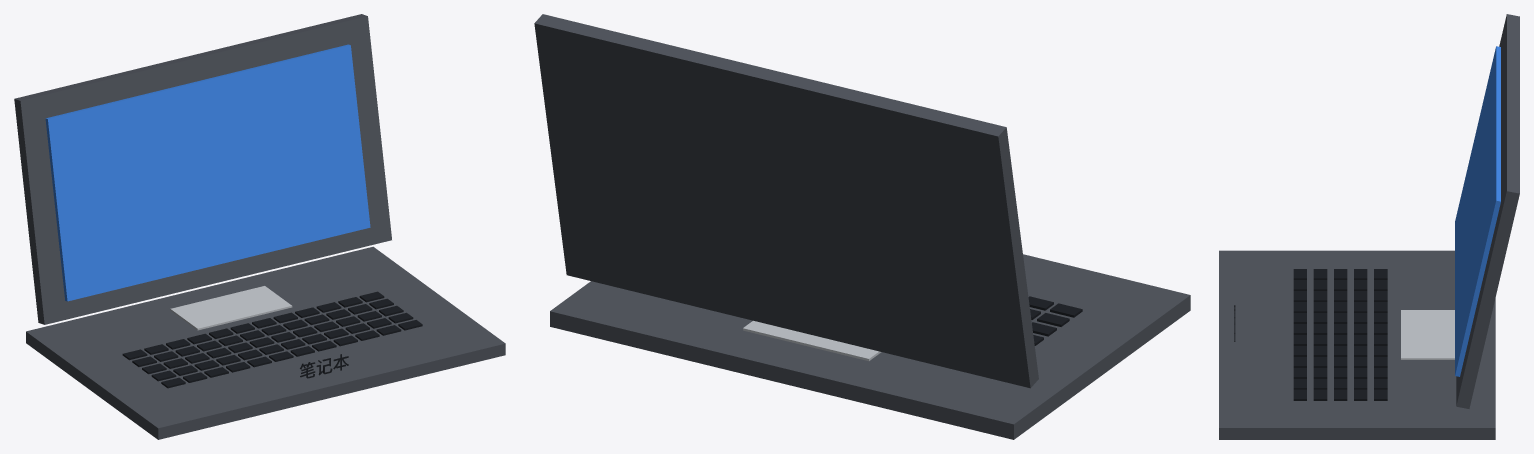
Rendered from asset_laptop.glb.
3 renders of one model, left to right at view 1: azimuth 30°, elevation 25°; view 2: azimuth 150°, elevation 25°; view 3: azimuth 270°, elevation 25°, orthographic. The views are drawn at different scales.
Parts seen in each view (by area): view 1: display, thin_base, open_lid, trackpad; view 2: open_lid, thin_base, trackpad; view 3: thin_base, display, open_lid, trackpad.
Boxes of the visible parts, x1,y1,x2,y2 form: display: [45, 44, 370, 301]; thin_base: [26, 246, 505, 439]; open_lid: [14, 14, 391, 324]; trackpad: [170, 286, 292, 330]; open_lid: [534, 14, 1038, 388]; thin_base: [550, 254, 1190, 439]; trackpad: [743, 320, 881, 361]; thin_base: [1219, 250, 1495, 439]; display: [1455, 46, 1500, 376]; open_lid: [1456, 14, 1519, 408]; trackpad: [1401, 310, 1454, 359].
Size of the model in its own units: 2.5 by 1.64 by 1.79.
